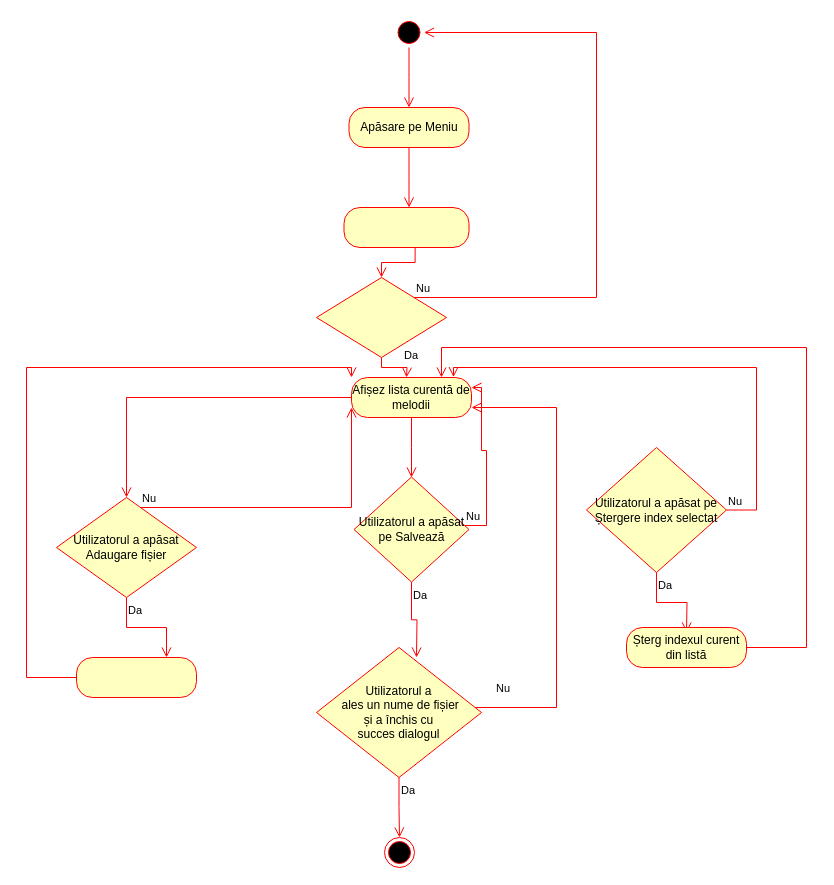
Some shapes in this 834 by 885 pixel diagram are drawn without their labels. Each missing label, with the box of its shape:
Adaug numele fișierul ales la listă: (76, 656, 196, 698)
Apăsare pe Modificare playlist existent: (343, 206, 469, 248)
Utilizatorul a selectat un playlist: (316, 276, 446, 358)
